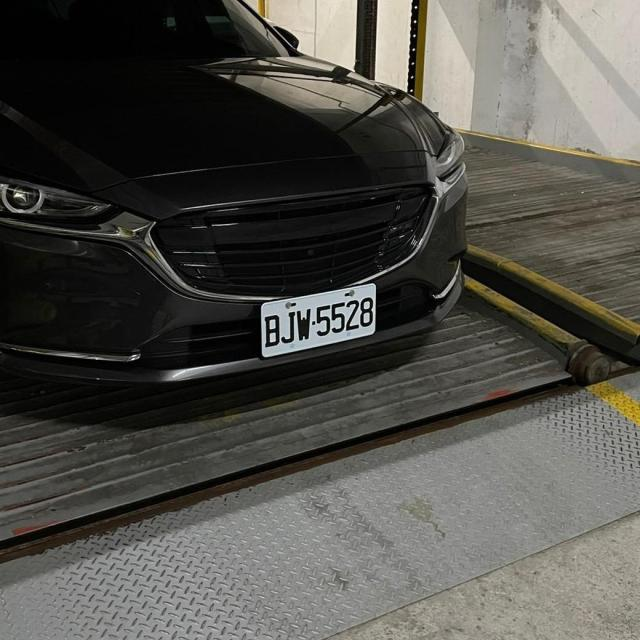W: (258, 281, 381, 358)
